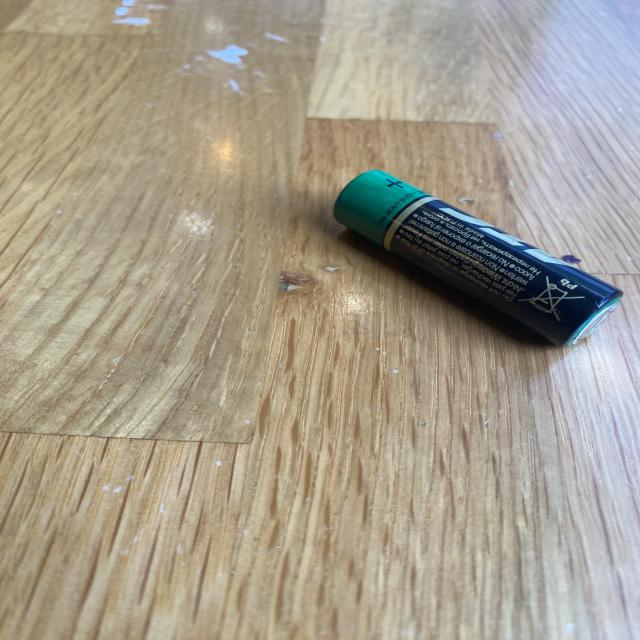AA: (332, 168, 624, 348)
